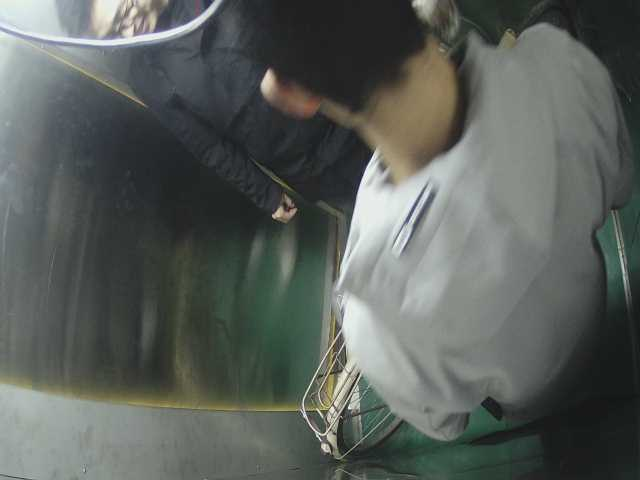bicycle: (294, 315, 419, 464)
person: (233, 1, 636, 438), (49, 6, 366, 225)
